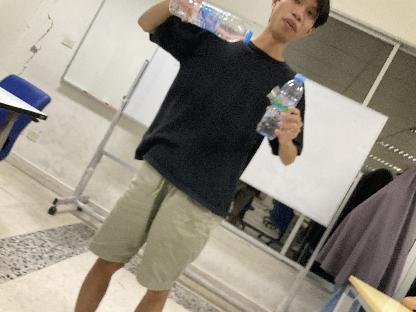Plastic Bottle: (169, 0, 255, 46), (255, 72, 307, 140)
